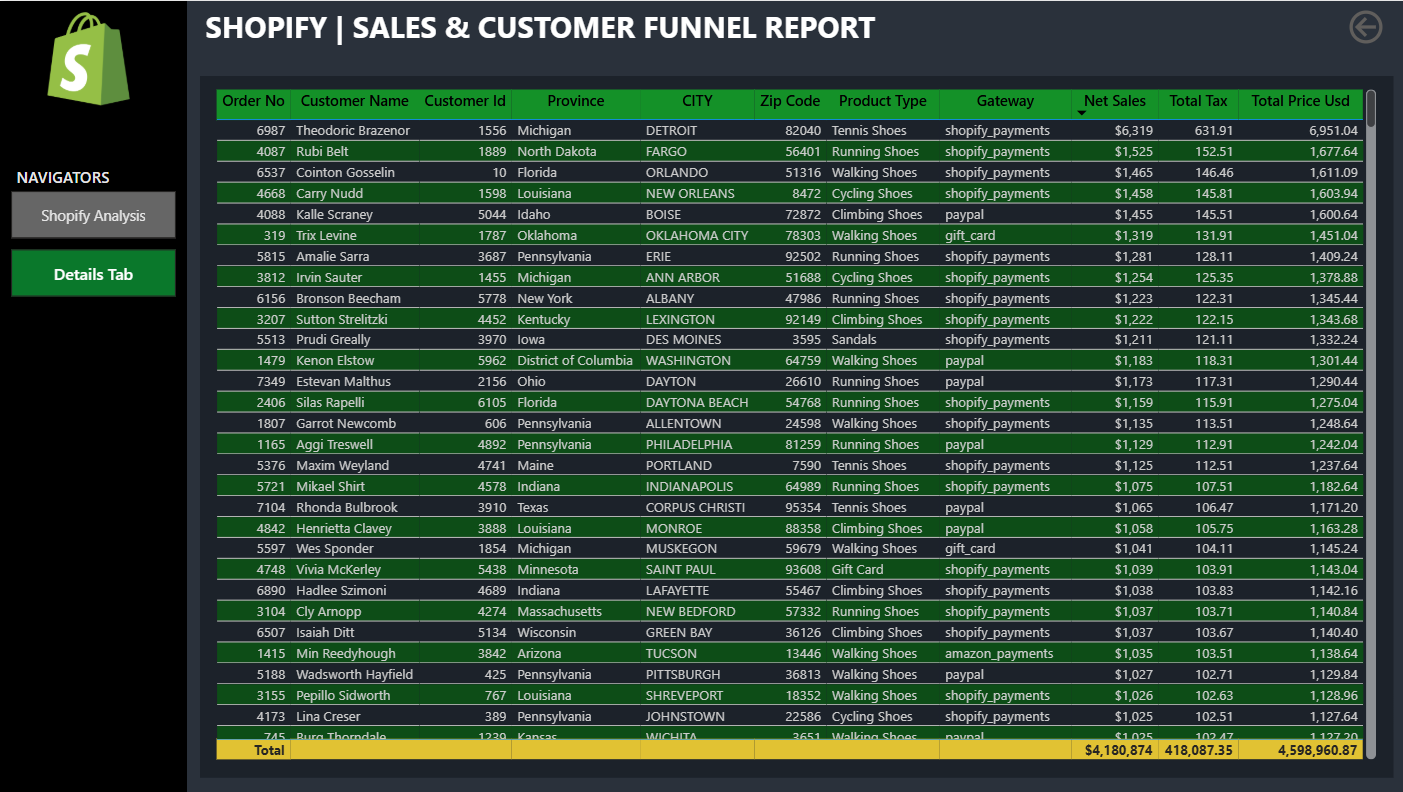

Layout of this report page (visuals, bound fields, positions):
{"tool":"powerbi","page":{"name":"Details Tab","canvas":[1280,720],"ordinal":1},"visuals":[{"type":"shape","box":[0,0,170,720],"z":0},{"type":"textbox","box":[181.9,0,752.8,47.7],"z":1000},{"type":"shape","box":[182,68,1085,638],"z":22000},{"type":"image","box":[39,10,83,85],"z":25000},{"type":"tableEx","fields":{"Values":["shopify_sales.Order Number","shopify_sales.Customer Name","shopify_sales.Customer Id","shopify_sales.Billing Address Province","shopify_sales.CITY","shopify_sales.Billing Address Zip","shopify_sales.Product Type","shopify_sales.Gateway","shopify_sales.Net Sales","Sum(shopify_sales.Total Tax)","Sum(shopify_sales.Total Price Usd)"]},"box":[191,75,1065,619],"z":25001},{"type":"actionButton","box":[1222,4,45,40],"z":25002},{"type":"pageNavigator","box":[10,173,150,97],"z":25003},{"type":"textbox","box":[10,145,97,33],"z":25004}]}

Visuals, with their boxes on the page's 1280x720 design canvas (x1, y1, x2, y2). These are canvas units, not pixel positions in the 1403x792 screenshot, which may show the page scaled, cropped or inside an application window:
shape: 0,0,170,720
textbox: 182,0,935,48
shape: 182,68,1267,706
image: 39,10,122,95
tableEx - shopify_sales.Order Number x shopify_sales.Customer Name: 191,75,1256,694
actionButton: 1222,4,1267,44
pageNavigator: 10,173,160,270
textbox: 10,145,107,178
